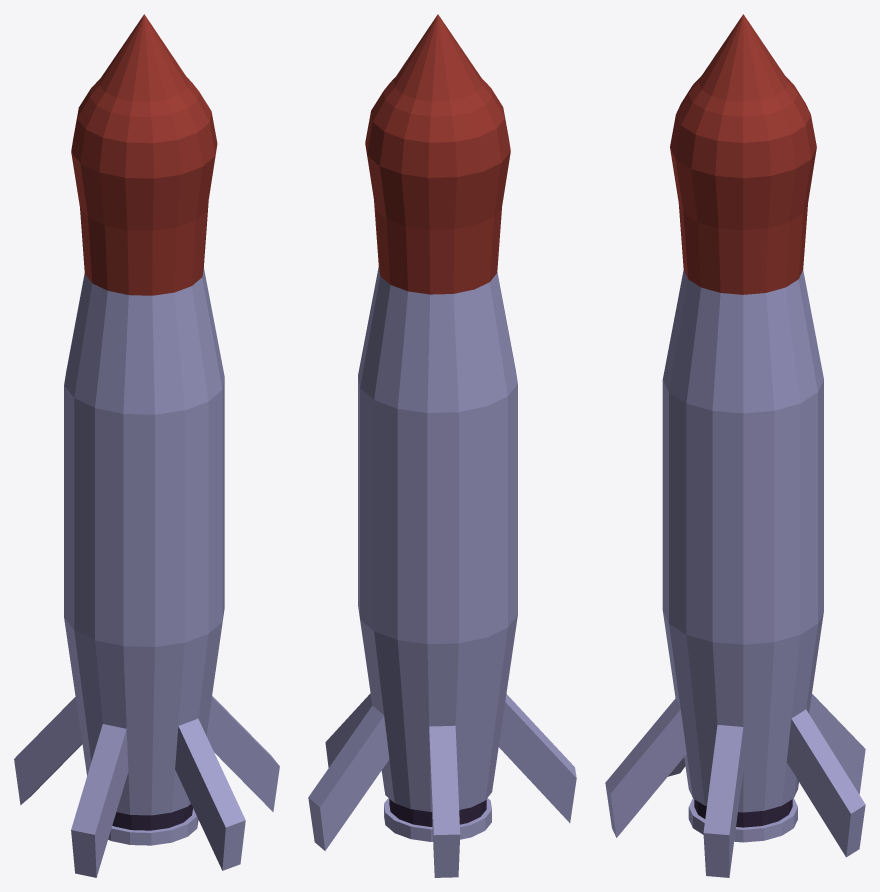
Rendered from singleRocket.fbx.
3 views of the same model, side by side, from view 1: azimuth 30°, elevation 25°; view 2: azimuth 150°, elevation 25°; view 3: azimuth 270°, elevation 25° (orthographic).
Parts seen in each view (by area): view 1: Cylinder.005; view 2: Cylinder.005; view 3: Cylinder.005.
Boxes of the visible parts, left/top/right/bottom form: Cylinder.005: left=14, top=14, right=279, bottom=877; Cylinder.005: left=308, top=14, right=576, bottom=877; Cylinder.005: left=605, top=14, right=865, bottom=877.
Size of the model in its own units: 51.05 by 175 by 51.05.
